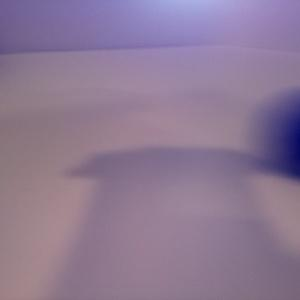dead_ball: (264, 96, 300, 179)
